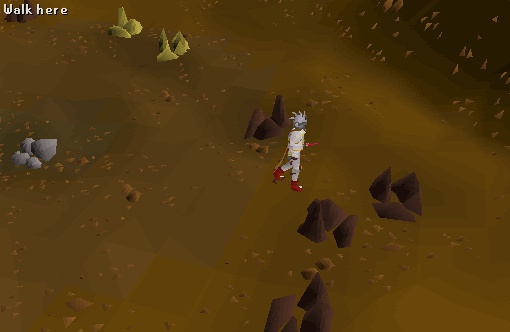gold: (152, 23, 196, 67), (103, 2, 147, 46)
iron: (295, 188, 370, 255), (361, 160, 433, 227), (239, 91, 297, 149)
